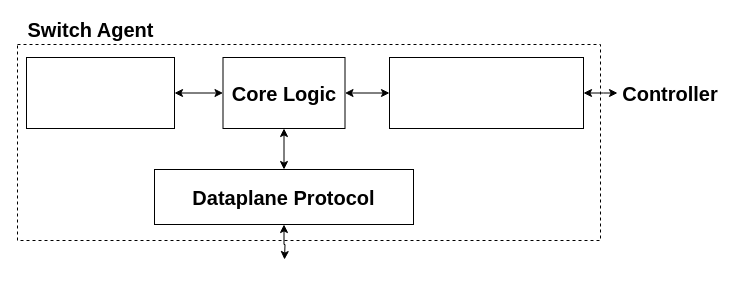
The diagram is 736 pixels wide and 286 high, and some of its shapes have lost their labels. The box of each missing label's shape, as (x1, y1, x2, y2) in pixels:
Dataplane Offload: (26, 56, 174, 128)
OpenFlow Protocol: (388, 56, 584, 128)
